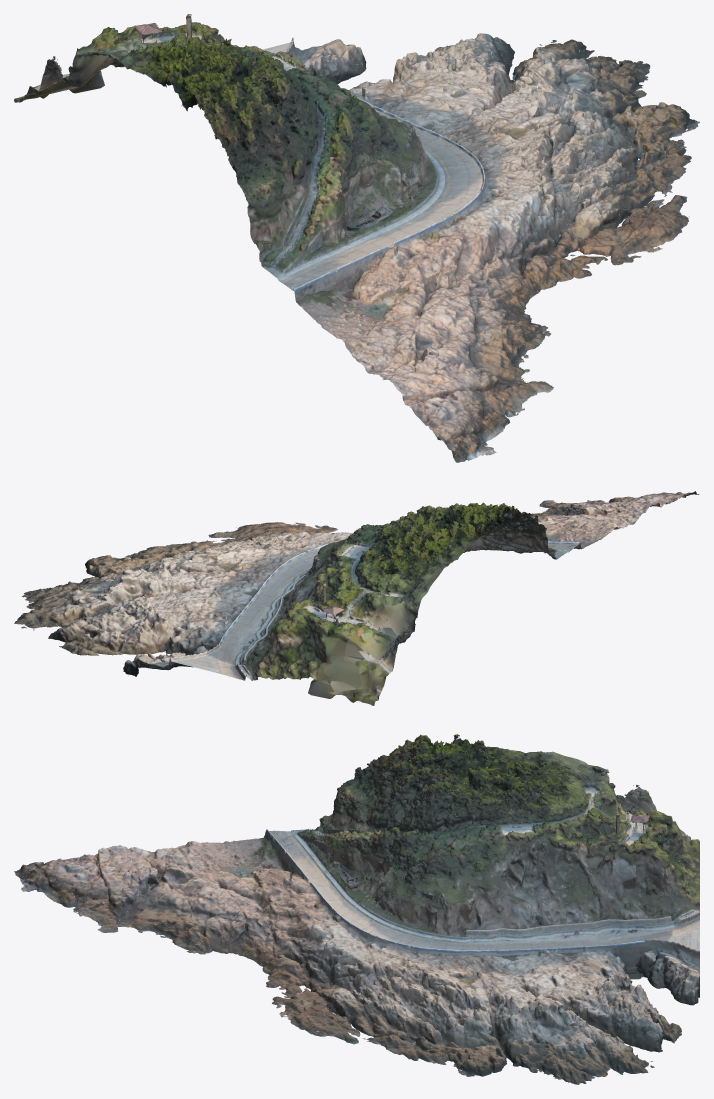
The model's file is coast-road-rocks.glb.
The picture shows the model from 3 angles, top to bottom: view 1: azimuth 30°, elevation 25°; view 2: azimuth 150°, elevation 25°; view 3: azimuth 270°, elevation 25°; orthographic projection. The views are drawn at different scales.
Visible parts, largest first — view 1: Object_2, Object_4, Object_5, Object_6, Object_7, Object_3, Object_8; view 2: Object_2, Object_6, Object_5, Object_4, Object_7, Object_3, Object_8; view 3: Object_2, Object_5, Object_4, Object_7, Object_3, Object_6, Object_8.
Boxes of the visible parts, x1=… form: Object_2: x1=14, y1=24, x2=699, y2=462; Object_4: x1=190, y1=52, x2=697, y2=383; Object_5: x1=343, y1=33, x2=686, y2=461; Object_6: x1=22, y1=23, x2=638, y2=456; Object_7: x1=111, y1=36, x2=647, y2=425; Object_3: x1=114, y1=14, x2=541, y2=309; Object_8: x1=114, y1=43, x2=488, y2=146; Object_2: x1=14, y1=491, x2=699, y2=705; Object_6: x1=27, y1=493, x2=693, y2=698; Object_5: x1=19, y1=492, x2=690, y2=671; Object_4: x1=24, y1=503, x2=642, y2=668; Object_7: x1=27, y1=512, x2=588, y2=650; Object_3: x1=213, y1=502, x2=553, y2=680; Object_8: x1=191, y1=506, x2=490, y2=613; Object_2: x1=14, y1=734, x2=699, y2=1084; Object_5: x1=16, y1=845, x2=681, y2=1081; Object_4: x1=120, y1=740, x2=669, y2=1084; Object_7: x1=31, y1=745, x2=650, y2=1083; Object_3: x1=234, y1=735, x2=699, y2=966; Object_6: x1=21, y1=758, x2=699, y2=1075; Object_8: x1=443, y1=740, x2=566, y2=974.
Bounding box in the file's own units: 143 × 44.63 × 197.
1 material, 1 textured.
